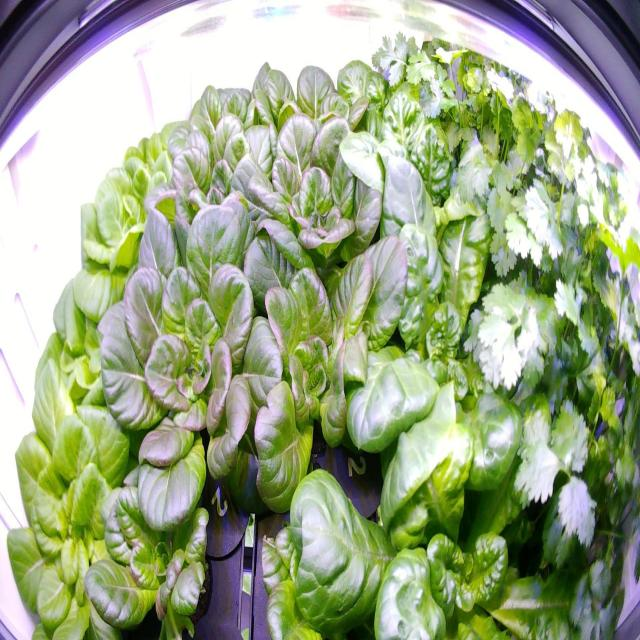Ready: (282, 328, 576, 640), (316, 152, 554, 521), (93, 205, 302, 540), (223, 215, 442, 519), (2, 350, 160, 634), (16, 227, 173, 474), (253, 109, 408, 295), (143, 98, 284, 290), (62, 151, 182, 342), (331, 52, 459, 222), (167, 52, 289, 193), (263, 52, 385, 169), (112, 103, 205, 247)
